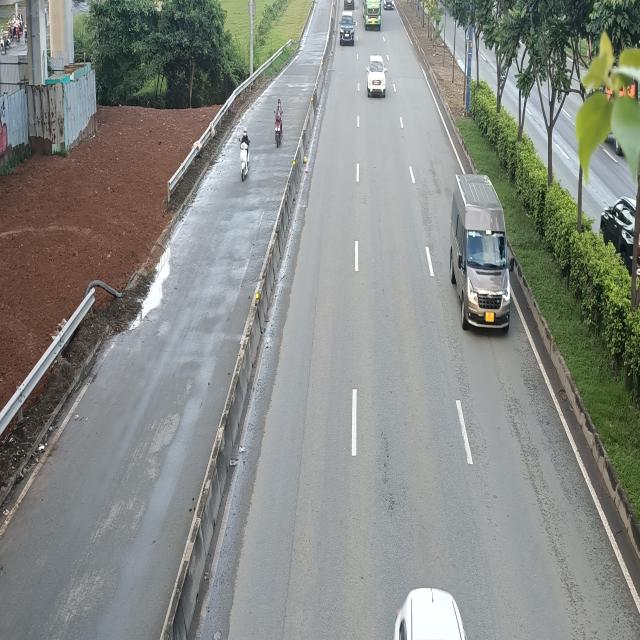car: (366, 57, 387, 99), (339, 10, 357, 46)
container: (362, 1, 382, 30)
van: (452, 172, 516, 332)
